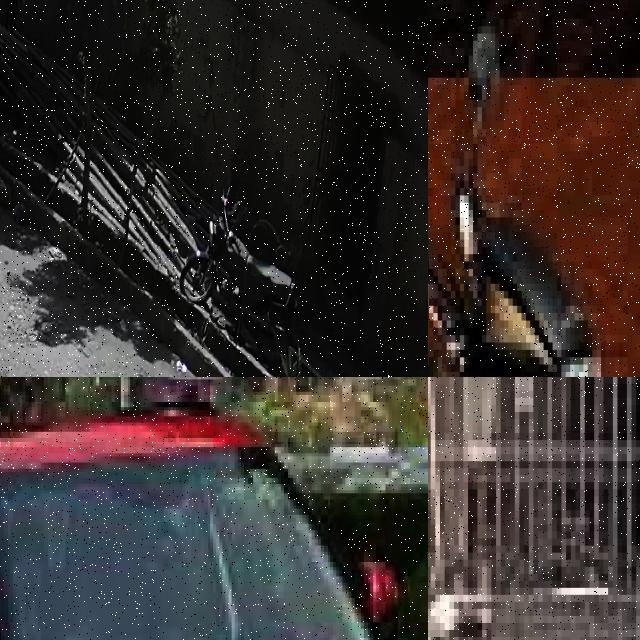bike: (428, 210, 640, 377), (180, 188, 298, 371), (428, 538, 566, 640)
car: (0, 401, 428, 640)
